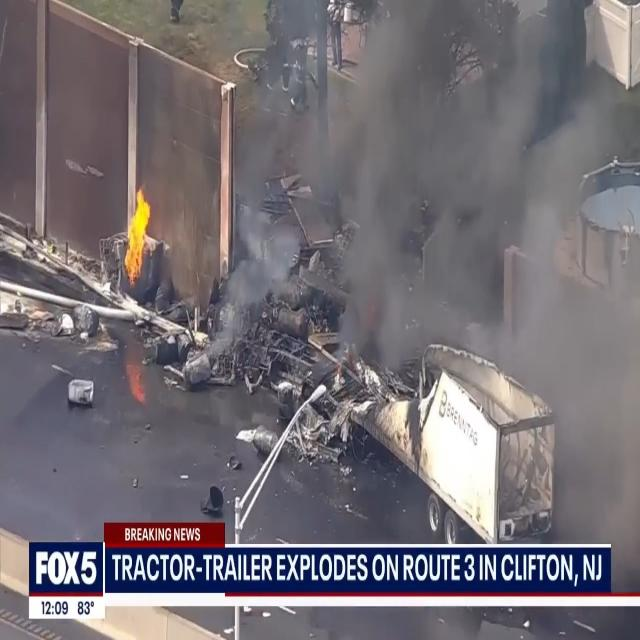fire: (122, 182, 156, 281)
